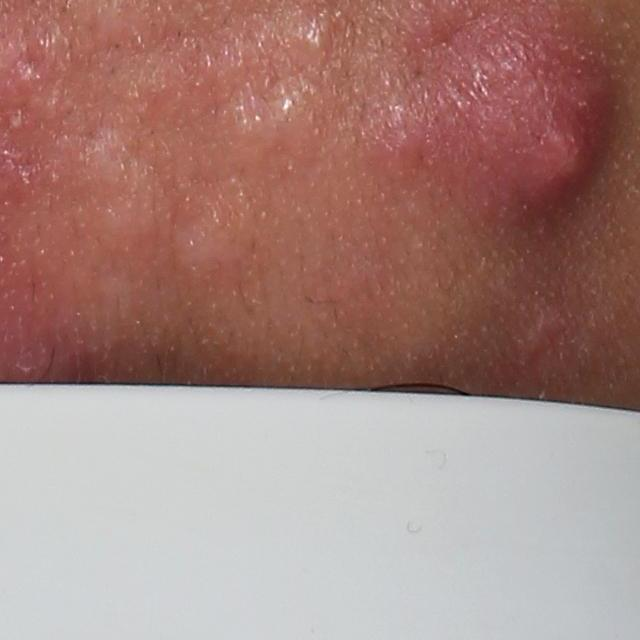hypertrophic_scar: (68, 123, 170, 264), (201, 11, 341, 89), (207, 82, 326, 149), (160, 211, 262, 275)
